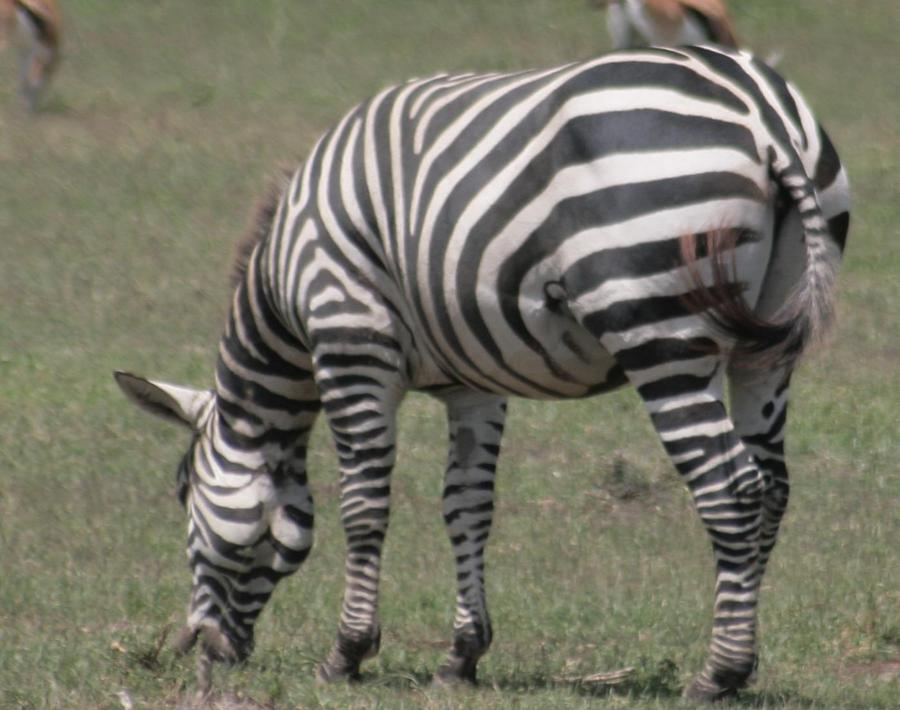zebra_plains: (255, 59, 758, 434)
